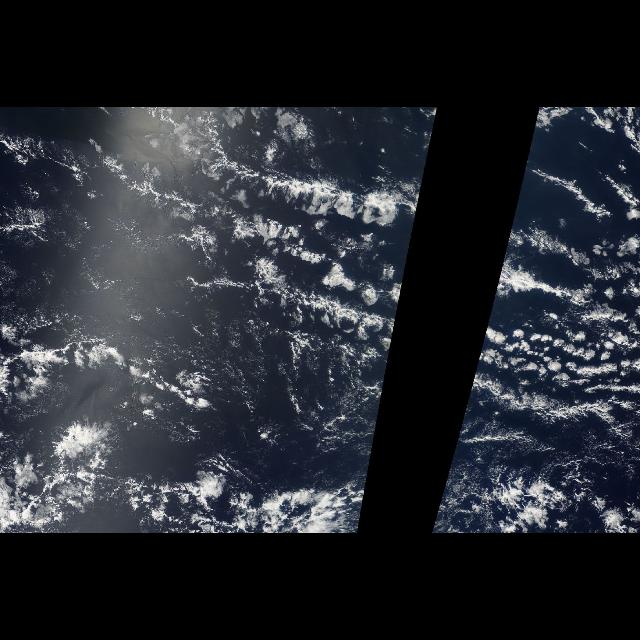Fish: (80, 126, 436, 340)
Sugar: (112, 311, 372, 491)
